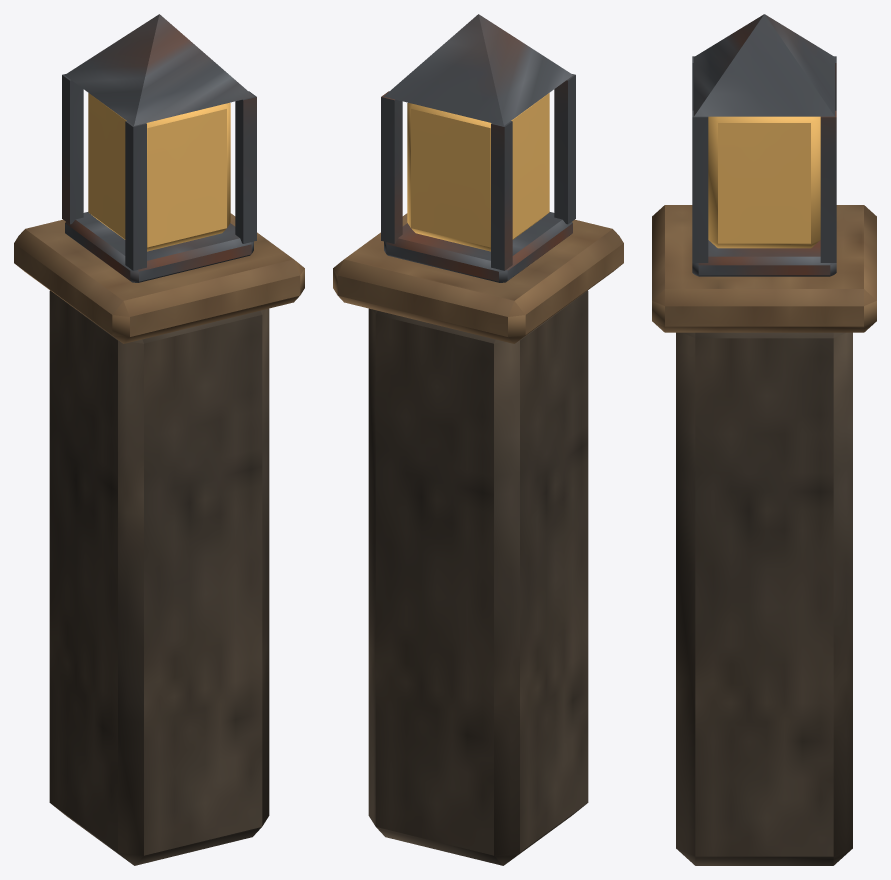
The model's file is SM_Lobby_FenceLantern.fbx.
The picture shows the model from 3 angles, left to right: view 1: azimuth 30°, elevation 25°; view 2: azimuth 150°, elevation 25°; view 3: azimuth 270°, elevation 25°; orthographic projection.
Parts seen in each view (by area): view 1: SM_Lobby_FenceLantern; view 2: SM_Lobby_FenceLantern; view 3: SM_Lobby_FenceLantern.
Part boxes in pixels (x1,y1,x2,y2): SM_Lobby_FenceLantern: (14, 14, 304, 865); SM_Lobby_FenceLantern: (333, 14, 623, 865); SM_Lobby_FenceLantern: (652, 14, 876, 865).
Bounding box in the file's own units: 1.4 × 5.65 × 1.4.
1 material, 1 textured.
